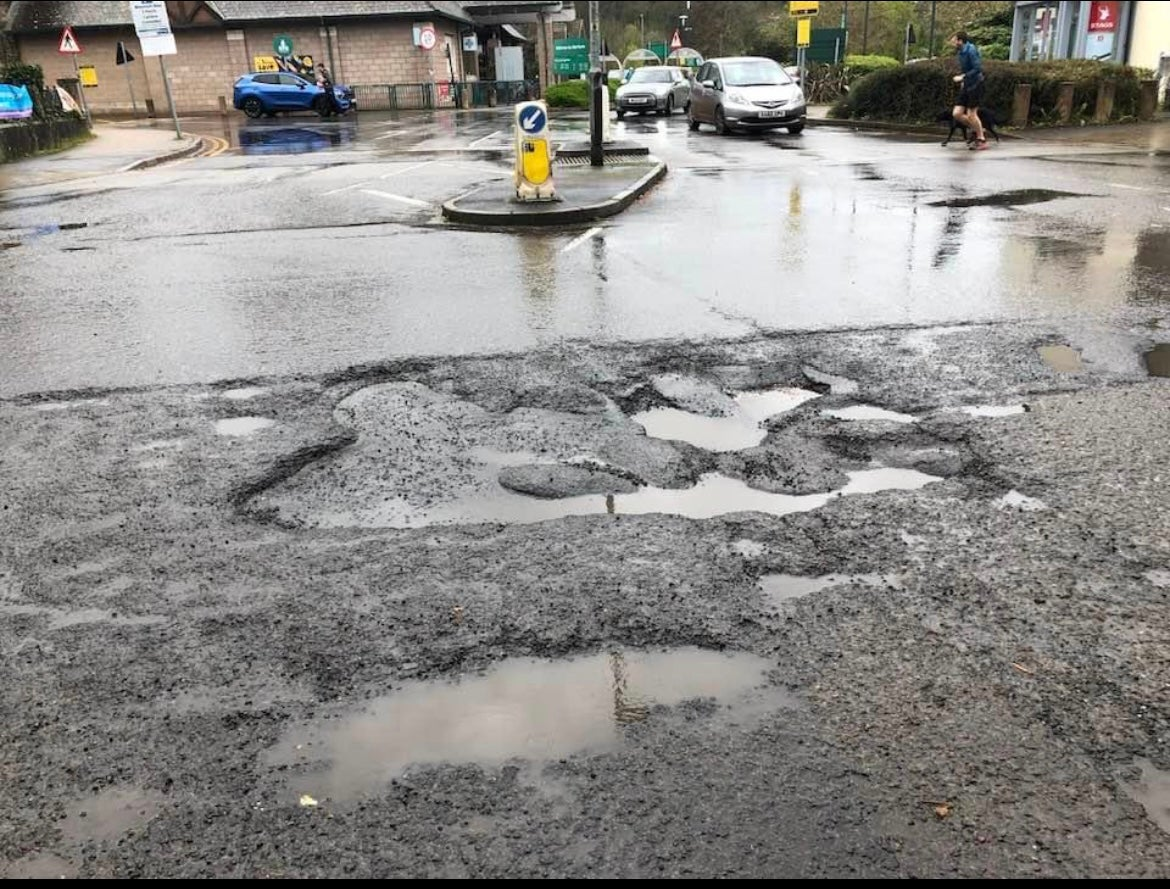Car: (676, 52, 817, 135), (217, 67, 363, 120), (616, 70, 695, 120)
Hole_in_the_road: (265, 330, 1033, 557), (199, 625, 818, 796)
